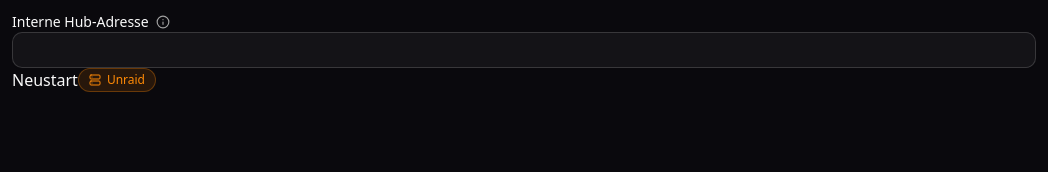
Test: extended explanations › compact mode shows one sentence without title or impact
Click the button named "Erklärung: Interne Hub-Adresse": [163, 22] box top-left (153, 12), bottom-right (173, 32)
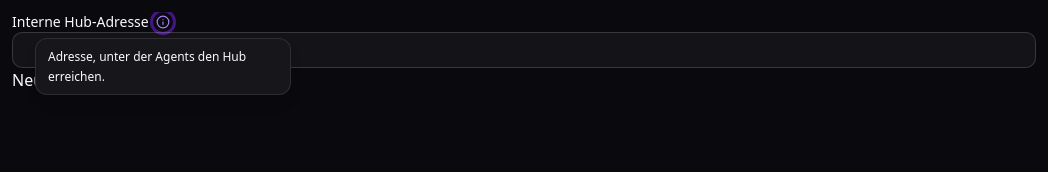
Now the text "Adresse, unter der Agents den Hub erreichen." is shown, box top-left (48, 48), bottom-right (246, 84)
